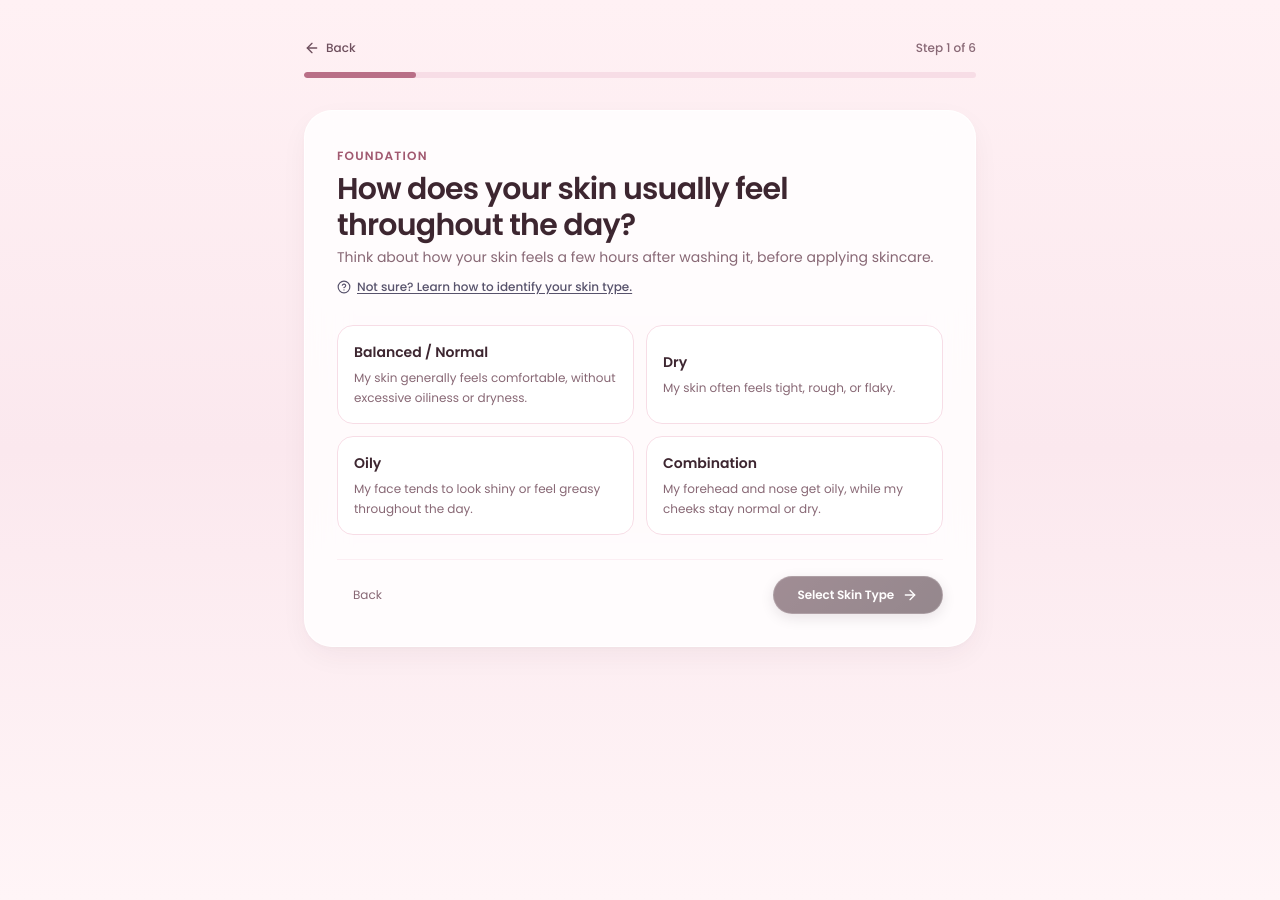
it: UI Components & Accessibility › renders Quiz and navigates to the Ritual Ready Google Sign-In step
Check: the heading "How does your skin usually feel throughout the day?" is shown, box [337,168,788,246]
Click the text "Balanced / Normal". click: (421, 352)
box: [354,342,488,362]
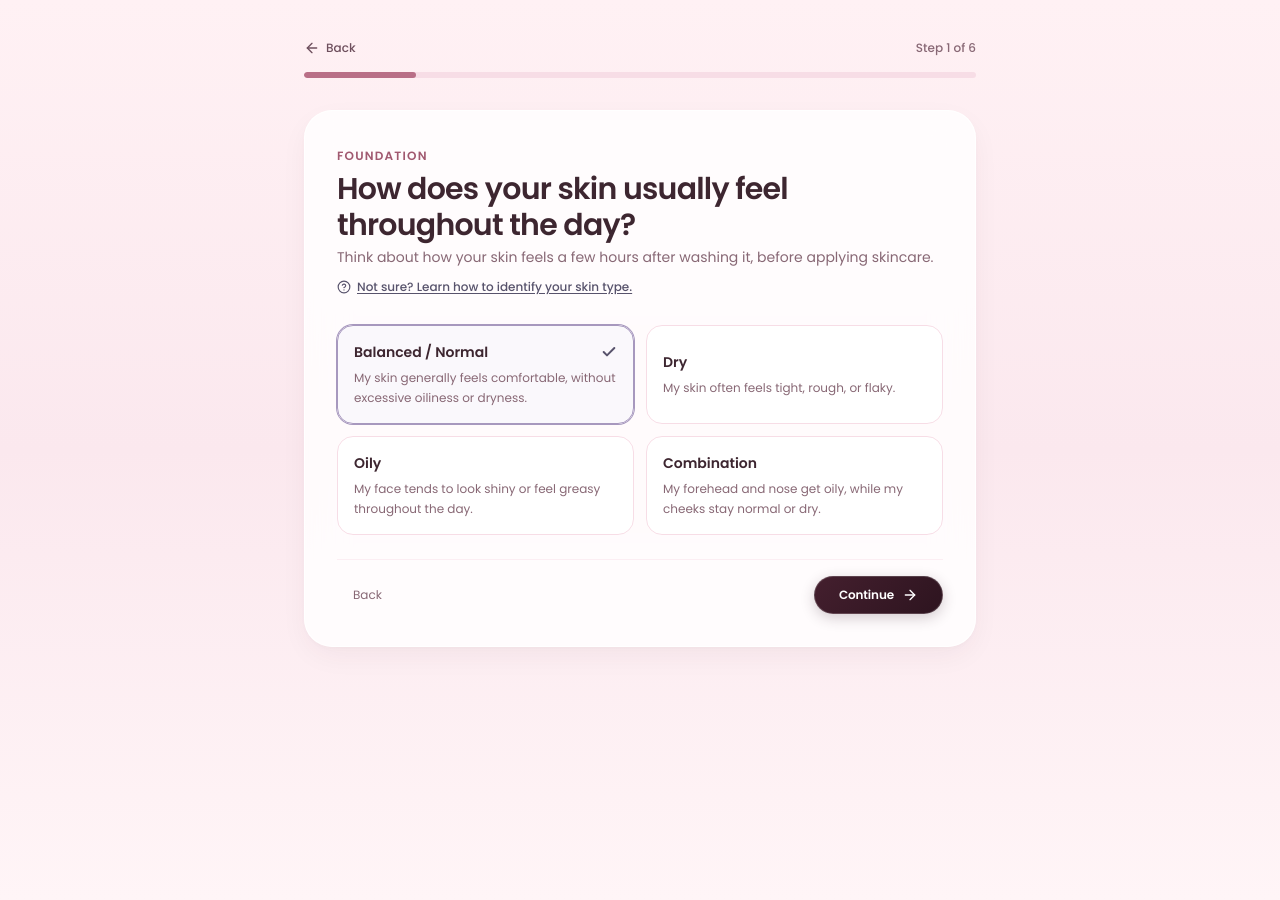
Click the button "Continue". click: (878, 595)
box: [814,576,943,614]
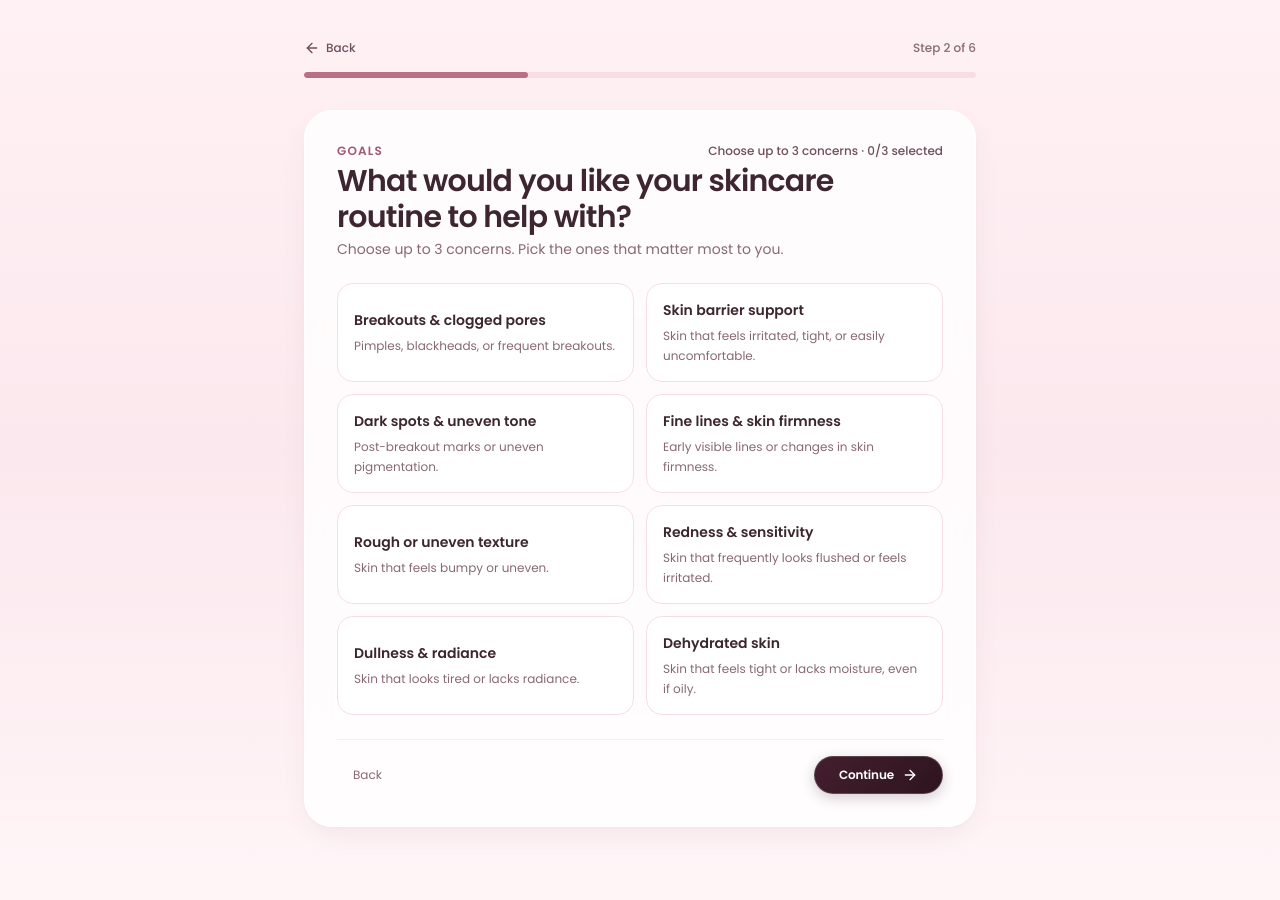
Check: the heading "What would you like your skincare routine to help with?" is shown, box [337,160,834,238]
Click the button "Continue". click: (878, 775)
box: [814,756,943,794]
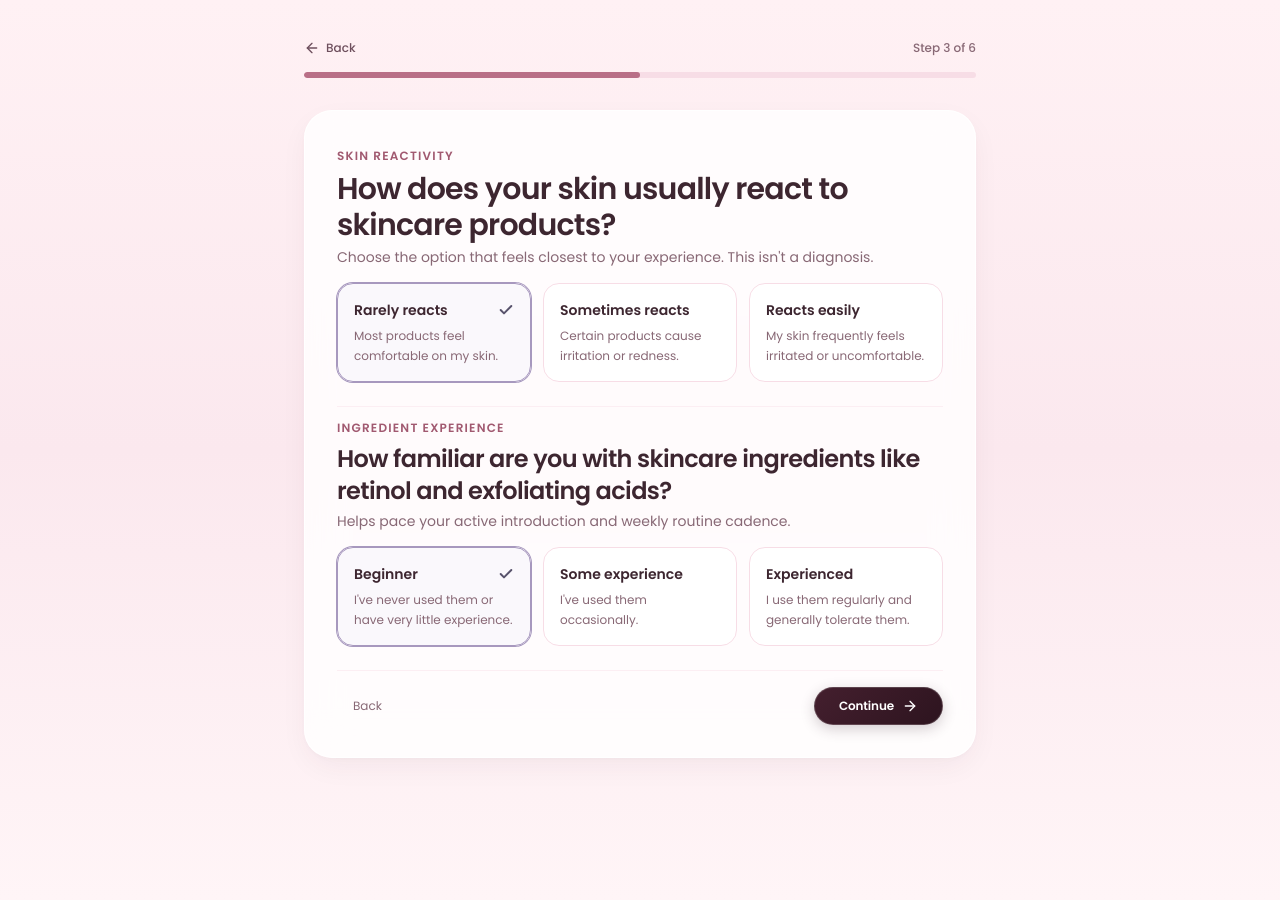
Check: the heading "How does your skin usually react to skincare products?" is shown, box [337,168,848,246]
Check: the text "Choose the option that feels closest to your experience. This isn't a diagnosis." is shown, box [337,247,943,267]
Check: the text "Rarely reacts" is shown, box [354,300,448,320]
Click the button "Continue". click: (878, 706)
box: [814,687,943,725]
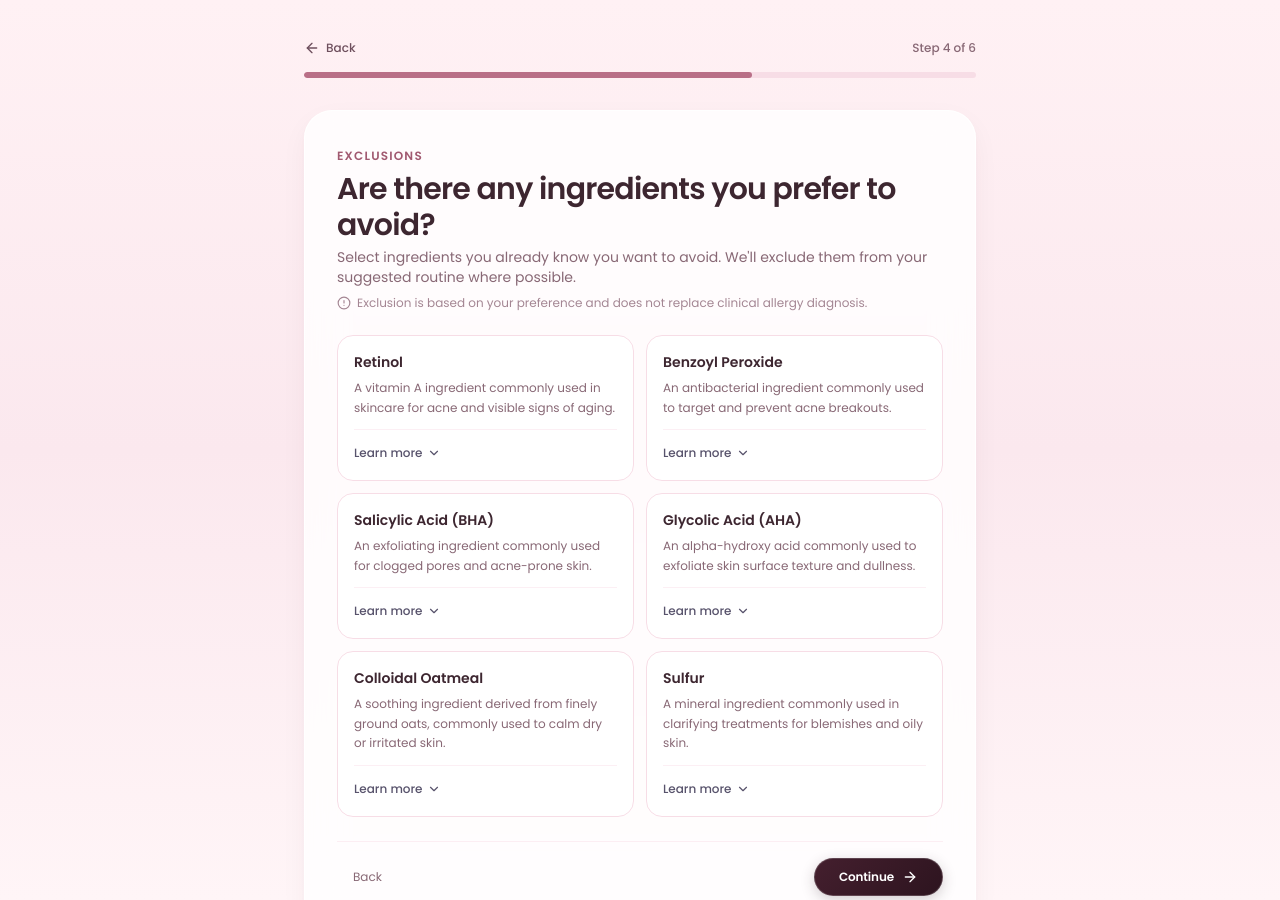
Check: the heading "Are there any ingredients you prefer to avoid?" is shown, box [337,171,943,243]
Check: the text "Select ingredients you already know you want to avoid. We'll exclude them from your suggested routine where possible." is shown, box [337,247,927,287]
Click the button "Continue". click: (878, 876)
box: [814,858,943,896]
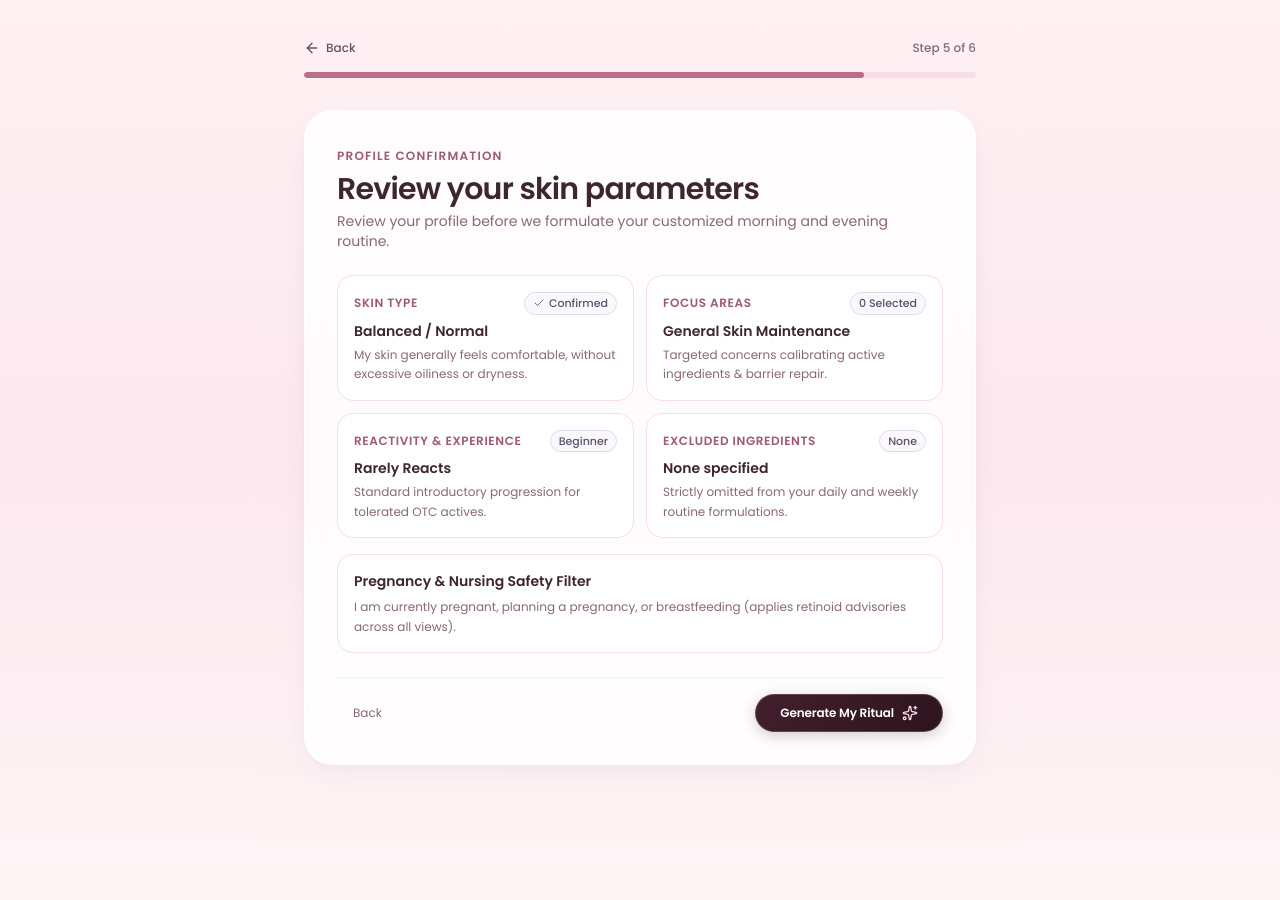
Check: the heading "Review your skin parameters" is shown, box [337,168,759,210]
Click the button "Generate My Ritual". click: (849, 713)
box: [755,694,943,732]
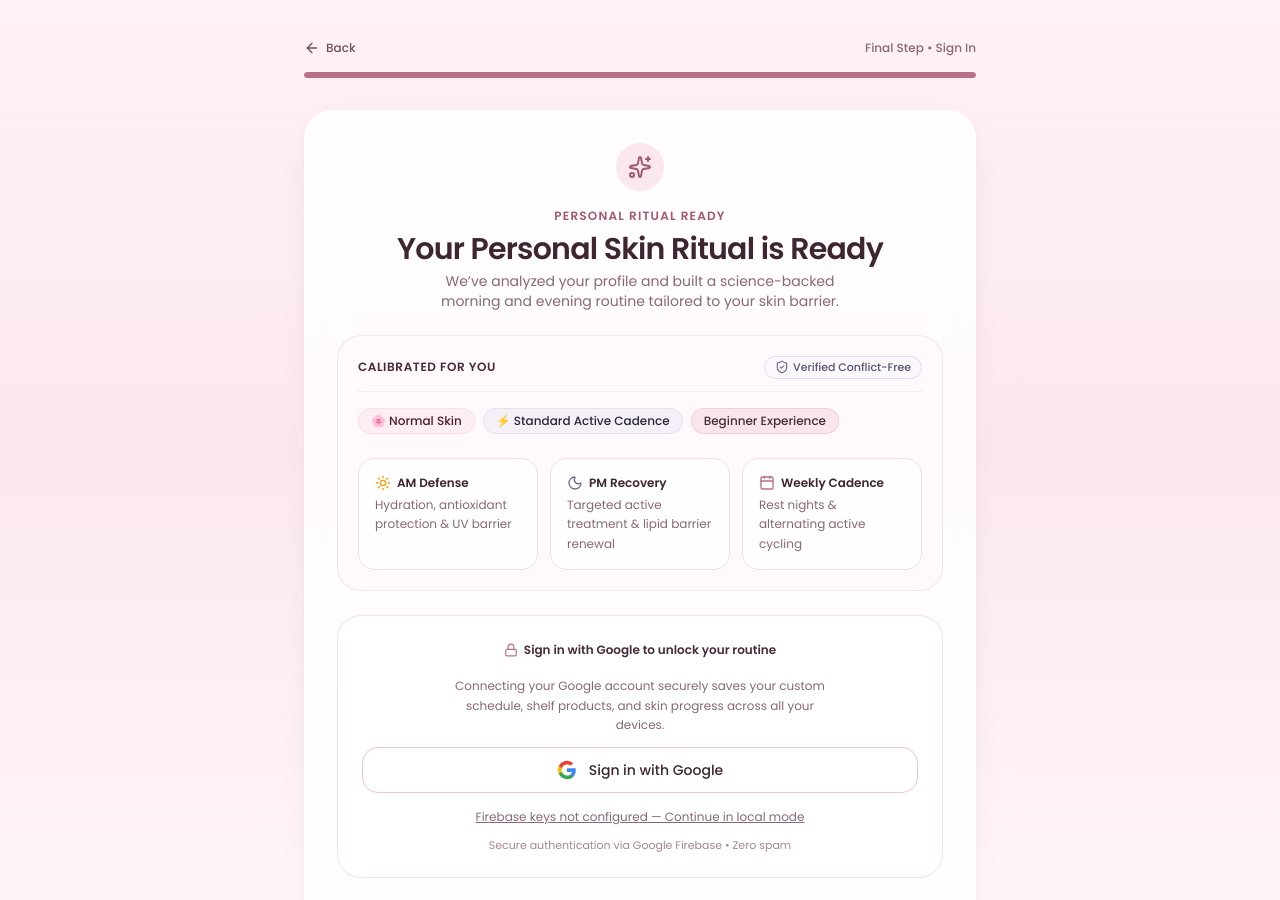
Check: the heading "Your Personal Skin Ritual is Ready" is shown, box [397,228,883,270]
Check: the text "Sign in with Google to unlock your routine" is shown, box [524,642,776,658]
Check: the button "Sign in with Google" is shown, box [362,746,918,792]
